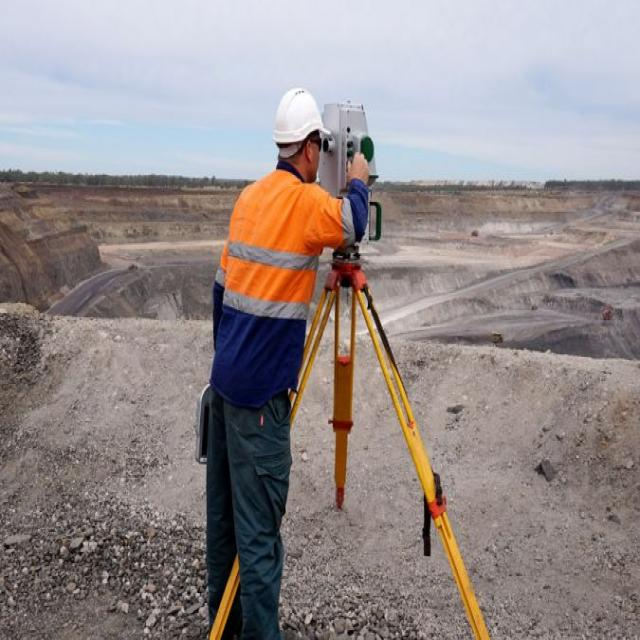person: (201, 81, 348, 633)
safety_helmet: (271, 76, 331, 152)
